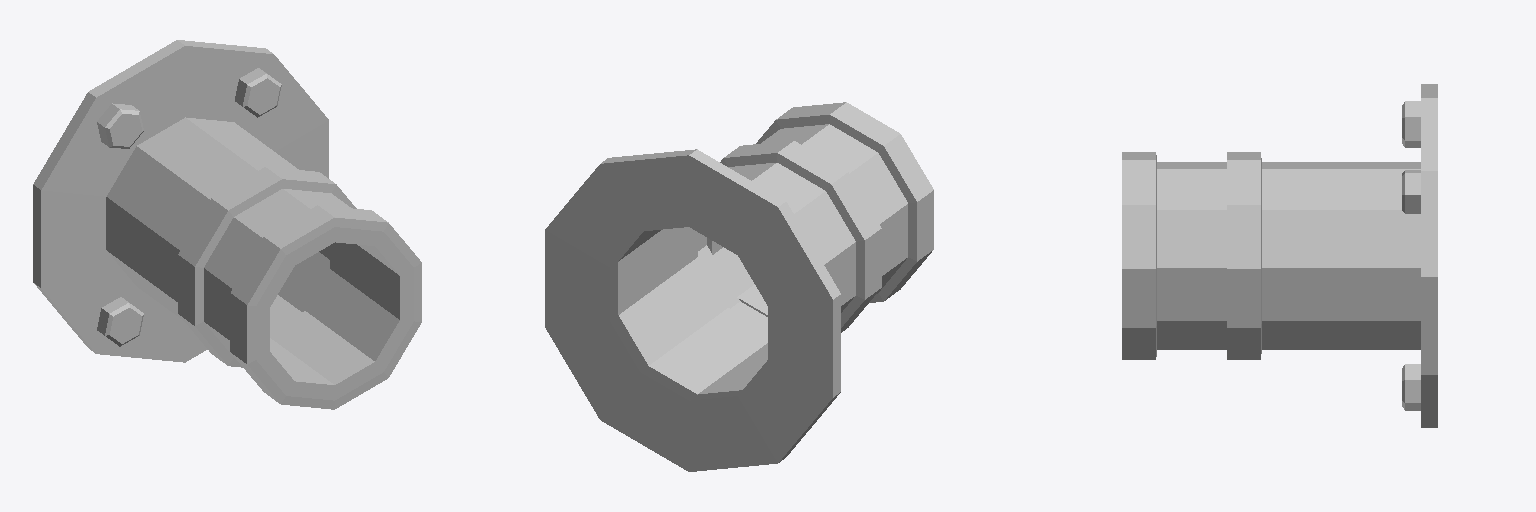
Rendered from tuberia3.OBJ.
3 views of the same model, side by side, from view 1: azimuth 30°, elevation 25°; view 2: azimuth 150°, elevation 25°; view 3: azimuth 270°, elevation 25° (orthographic).
Parts seen in each view (by area): view 1: Group44786; view 2: Group44786; view 3: Group44786.
Boxes of the visible parts, box(x1,y1,x2,y2) form: Group44786: box(33, 40, 421, 409); Group44786: box(545, 102, 933, 471); Group44786: box(1122, 84, 1437, 427).
Size of the model in its own units: 2 by 2.1 by 1.9.